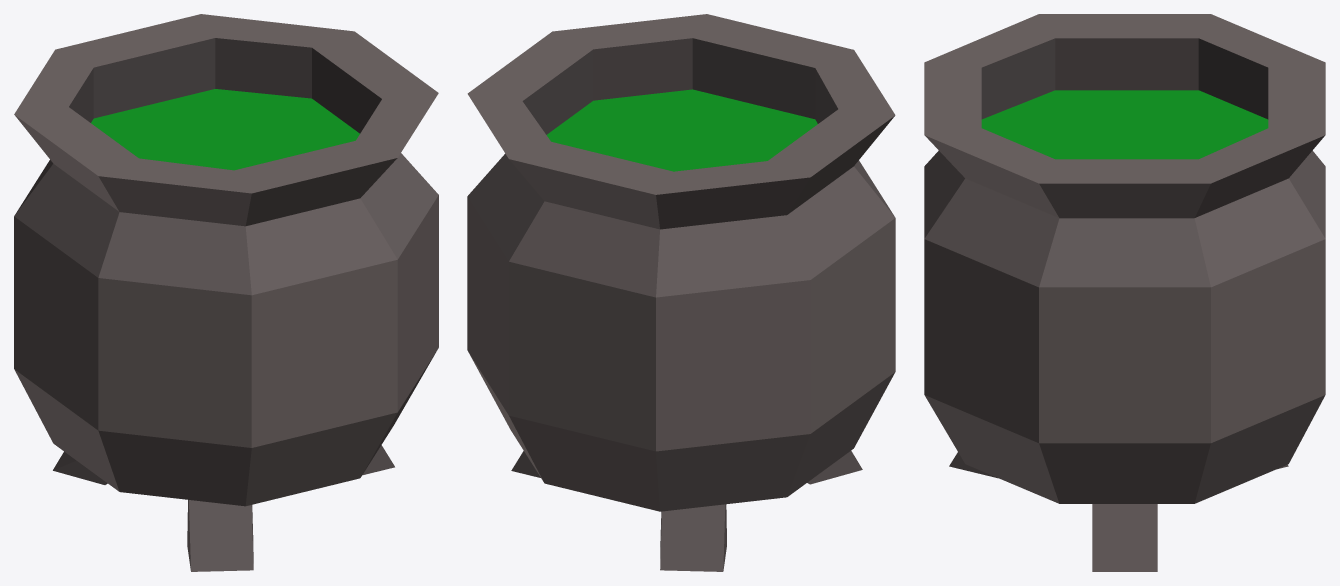
File: obj_cauldron_of_thunder_0.obj
The picture shows the model from 3 angles, left to right: view 1: azimuth 30°, elevation 25°; view 2: azimuth 150°, elevation 25°; view 3: azimuth 270°, elevation 25°; orthographic projection. The views are drawn at different scales.
Bounding box in the file's own units: 0.7656 × 0.8359 × 0.7656.
